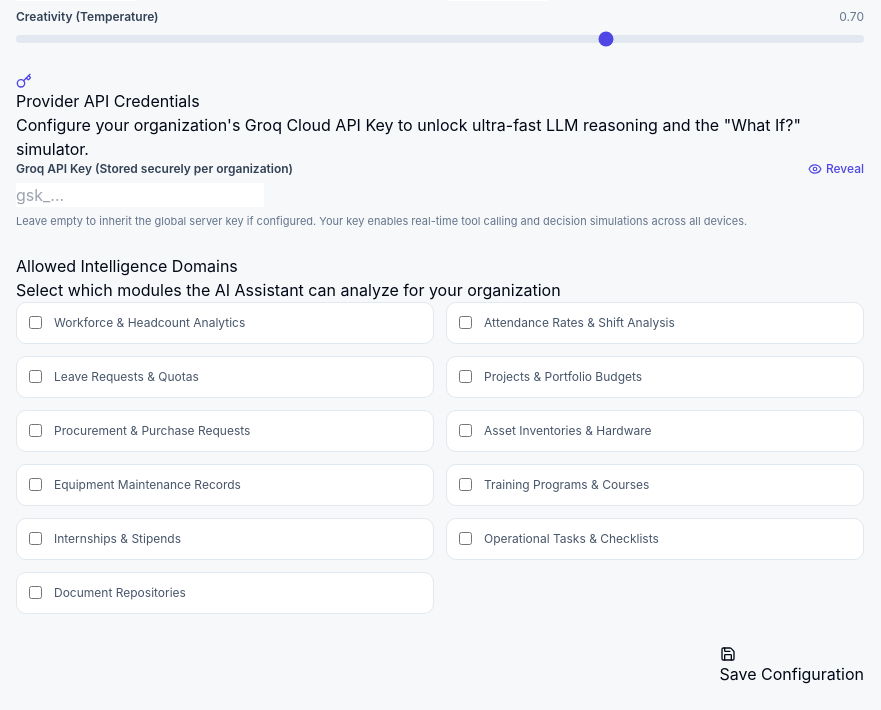
Test case: AISettingsPage Component › renders AI settings and updates configuration successfully
(page scrolled)
Click the button "Save Configuration" at (792, 666), box 720,646 -> 864,686
(page scrolled)
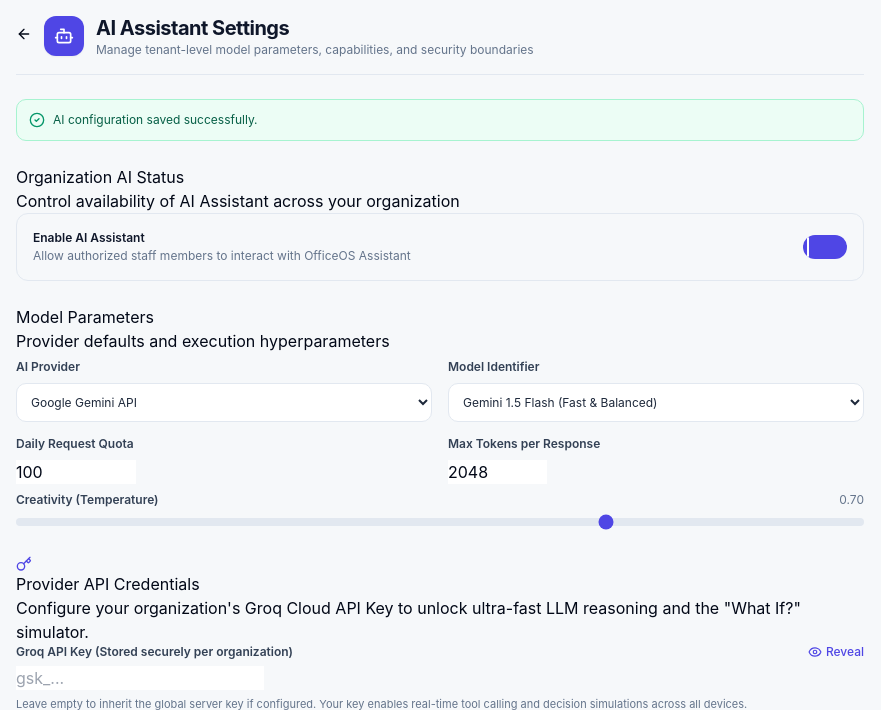
Check: the text "AI configuration saved successfully." is shown, box 53,112 -> 258,128
